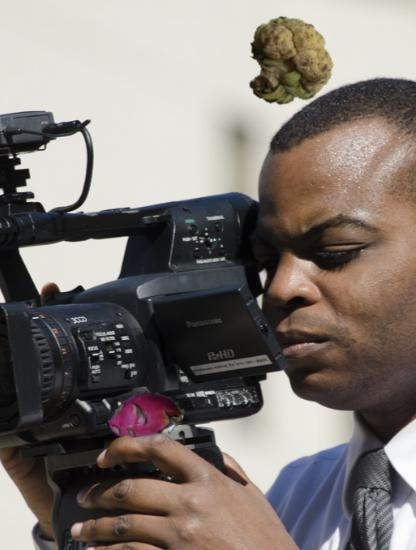Cauliflower: (240, 17, 333, 110)
Pitahaya: (110, 379, 184, 453)
